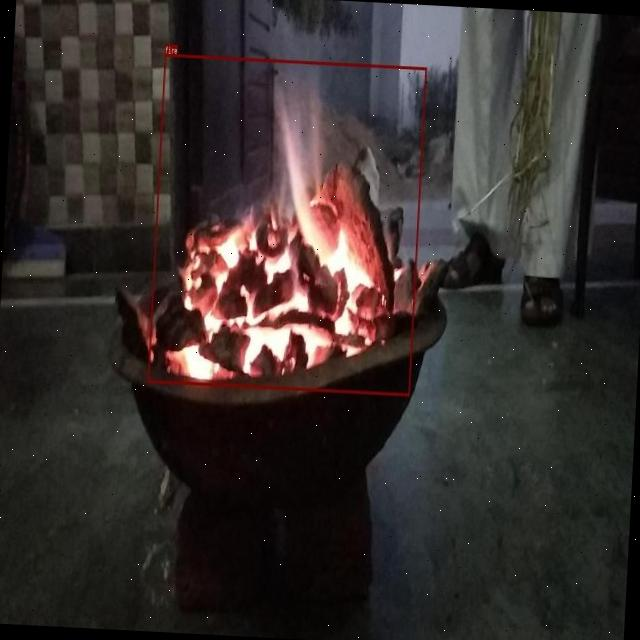fire: (148, 53, 426, 396)
